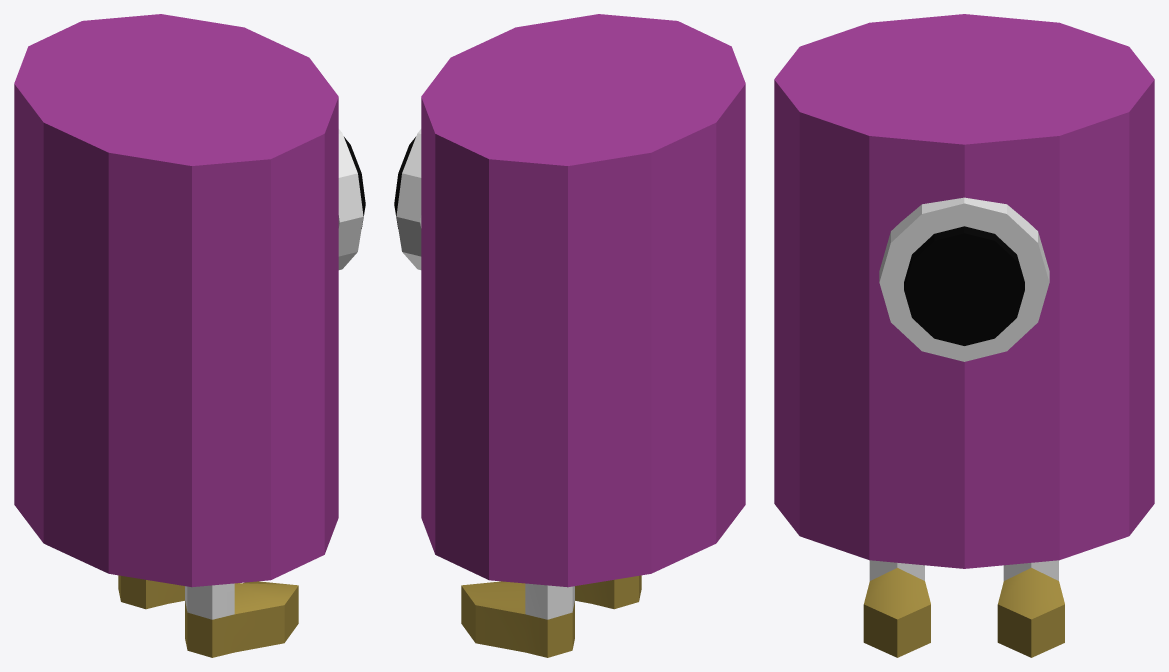
Rendered from purpleCancan_noarm.fbx.
3 views of the same model, side by side, from view 1: azimuth 30°, elevation 25°; view 2: azimuth 150°, elevation 25°; view 3: azimuth 270°, elevation 25° (orthographic).
Parts seen in each view (by area): view 1: pCylinder1; view 2: pCylinder1; view 3: pCylinder1.
Part boxes in pixels (<box>): pCylinder1: <box>14,14,365,657</box>; pCylinder1: <box>394,14,745,657</box>; pCylinder1: <box>774,14,1154,657</box>.
Bounding box in the file's own units: 2.2 × 3.82 × 2.46.
